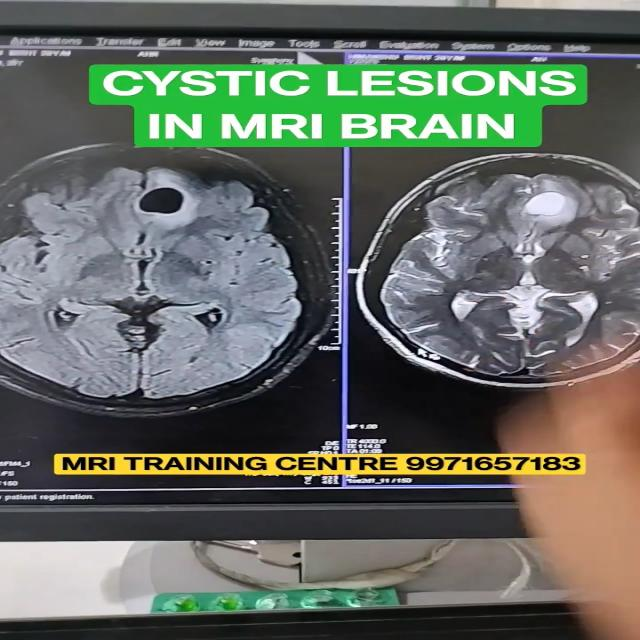tumor: (125, 176, 223, 231), (508, 187, 599, 238)
